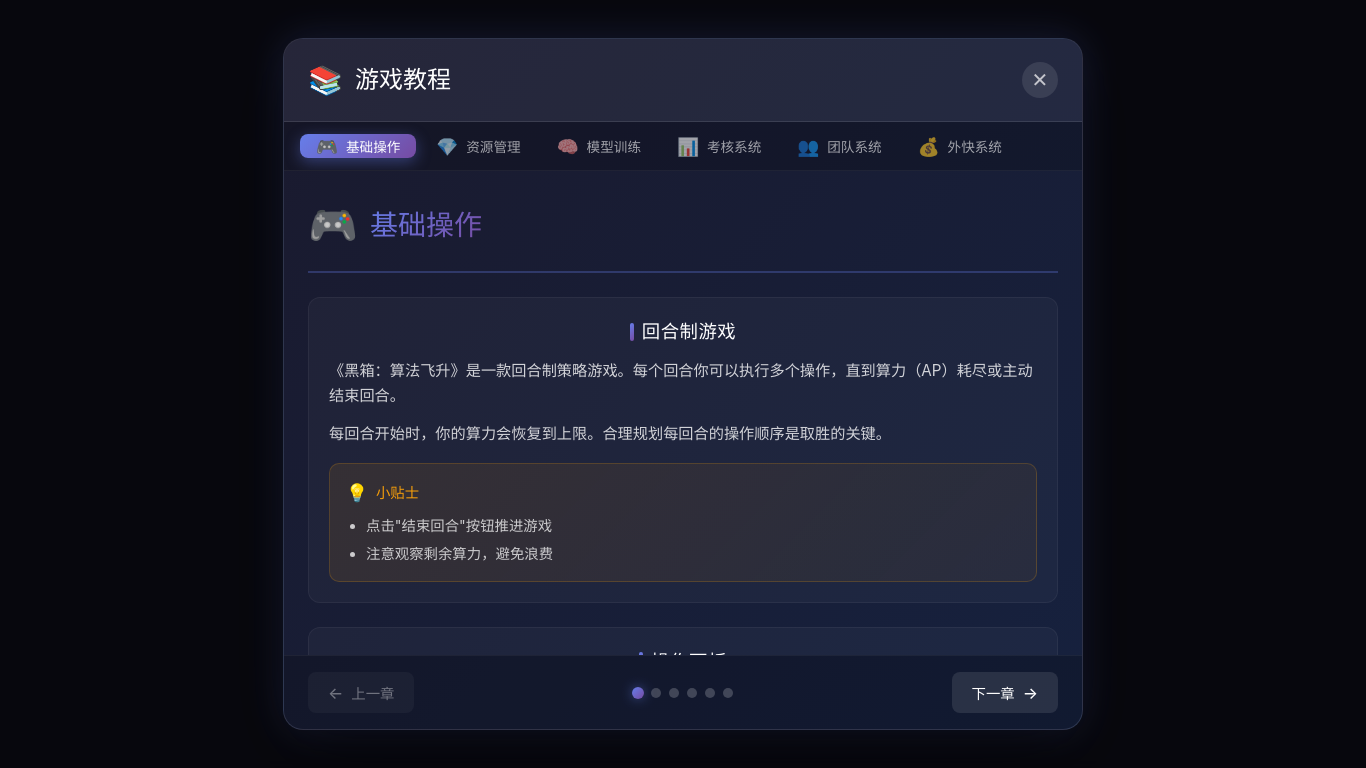
Test case: TutorialModal 组件单元测试 › 章节切换功能 › 点击章节导航应该切换到对应章节
The image size is (1366, 768).
点击"资源管理"章节
Click the button "💎 资源管理" at coordinates (478, 146), box [420,134,537,158]
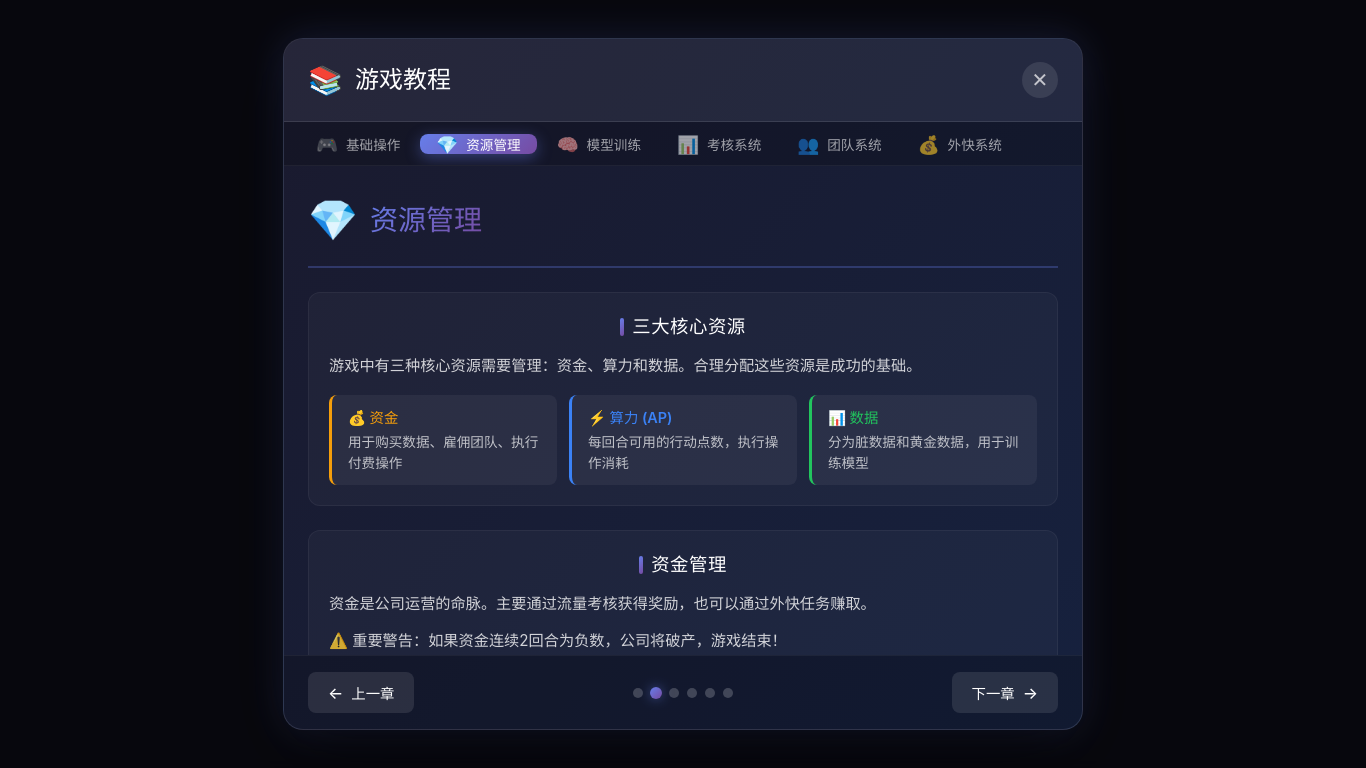
Result: the heading "三大核心资源" is shown at [632,315,746,337]
